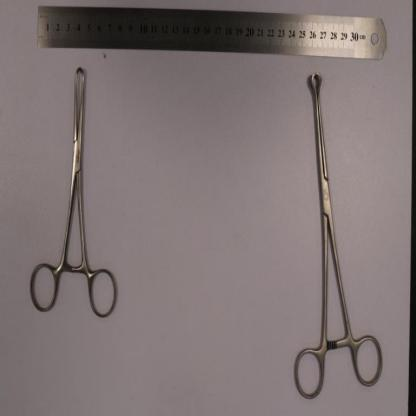8 Babcock Tissue Forceps: (292, 70, 385, 404), (29, 68, 119, 320)
